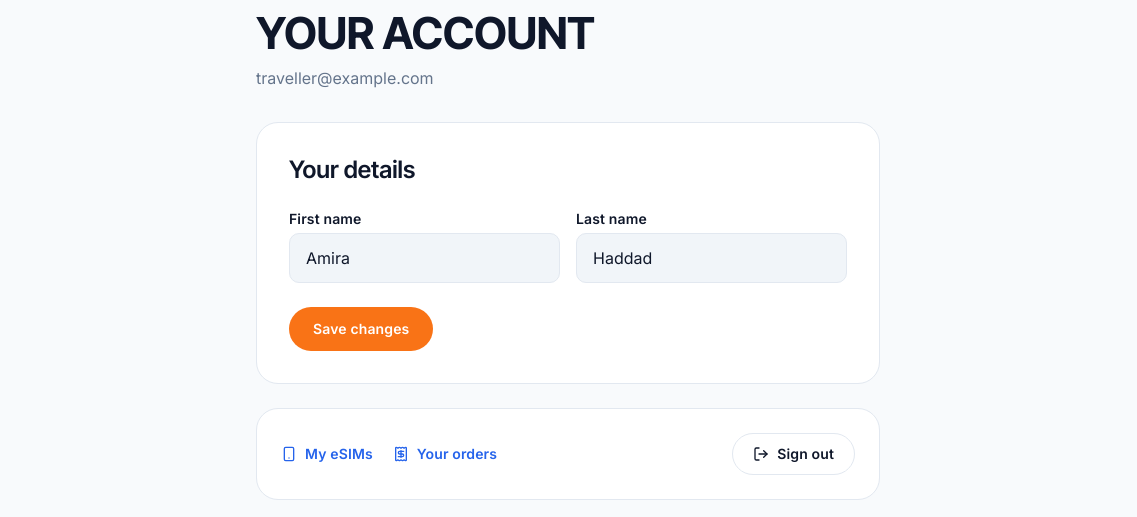
it: signing out › keeps warning the user when the server was never reached
This screenshot has width=1137, height=517.
Expected: the 1st field named "first name" is shown, [289,233,560,283]
What coordinates should you click on to do the following:
click the 2nd button named "sign out"
I would click on:
 (794, 454)
Its box is [732,433,855,475].
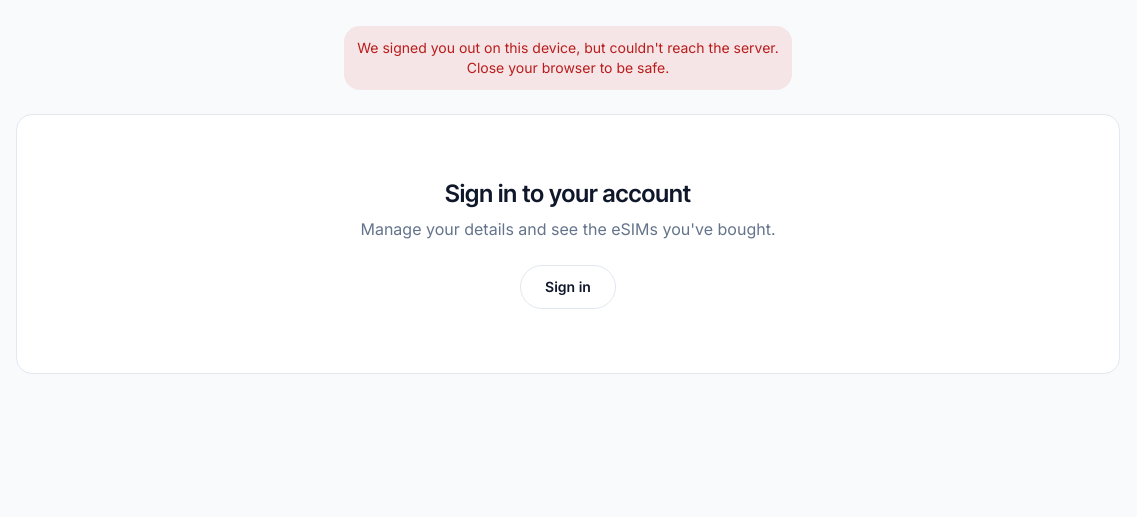
Now the text "close your browser" is shown, box [357,39,779,76]
